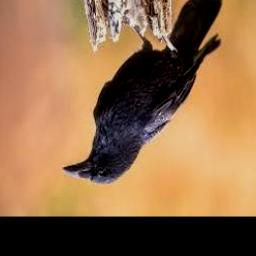Crow: (62, 0, 223, 184)
